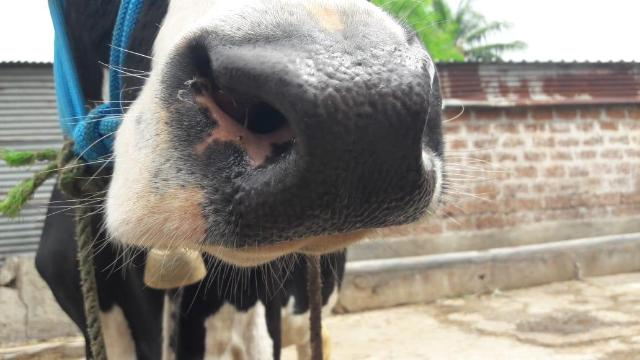Muzzle: (284, 52, 428, 226)
